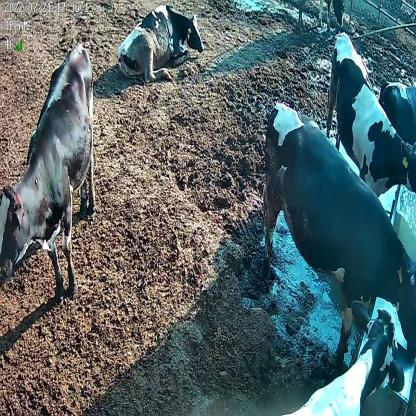cow: (259, 100, 416, 364), (0, 37, 99, 298), (323, 28, 416, 196), (117, 5, 204, 86)
